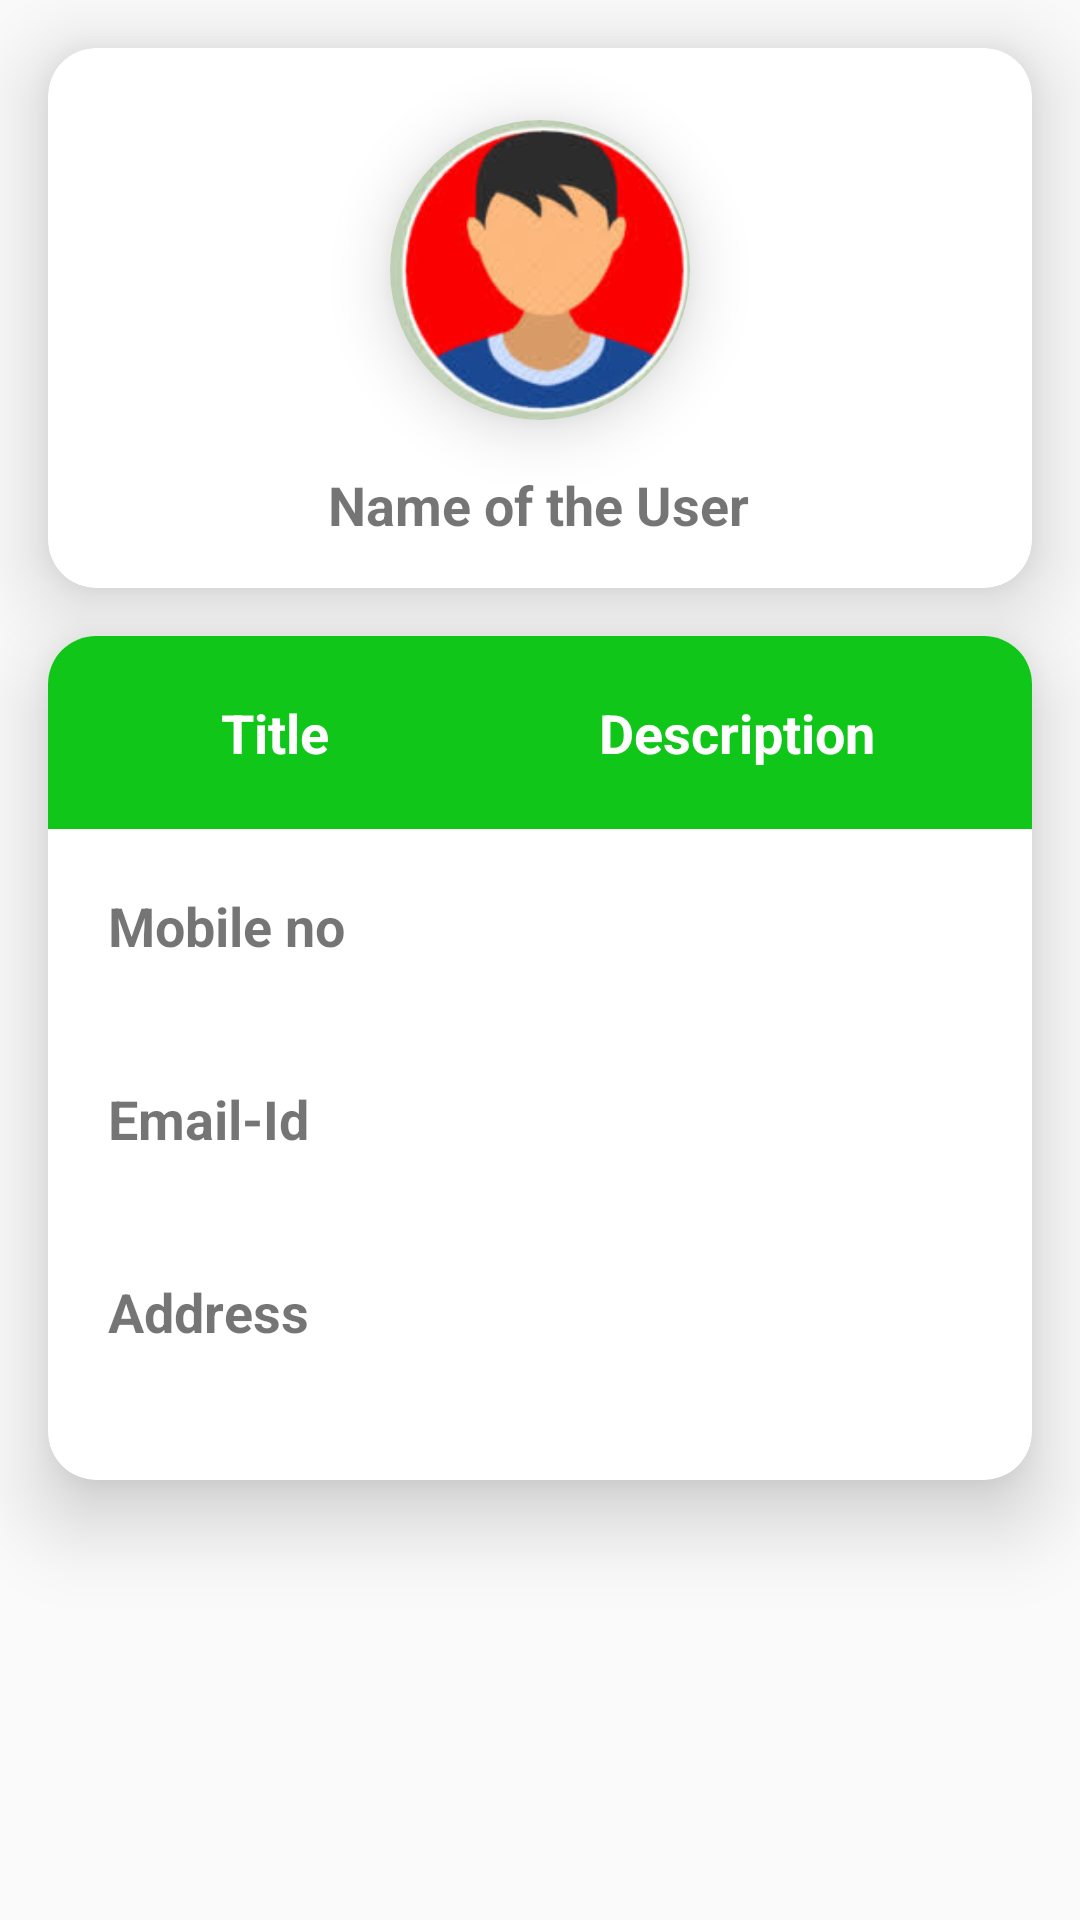

Icons on this 1080×1920 Android screen, each with its box as (x1, y1, x2, y2):
profile: (390, 120, 690, 420)
